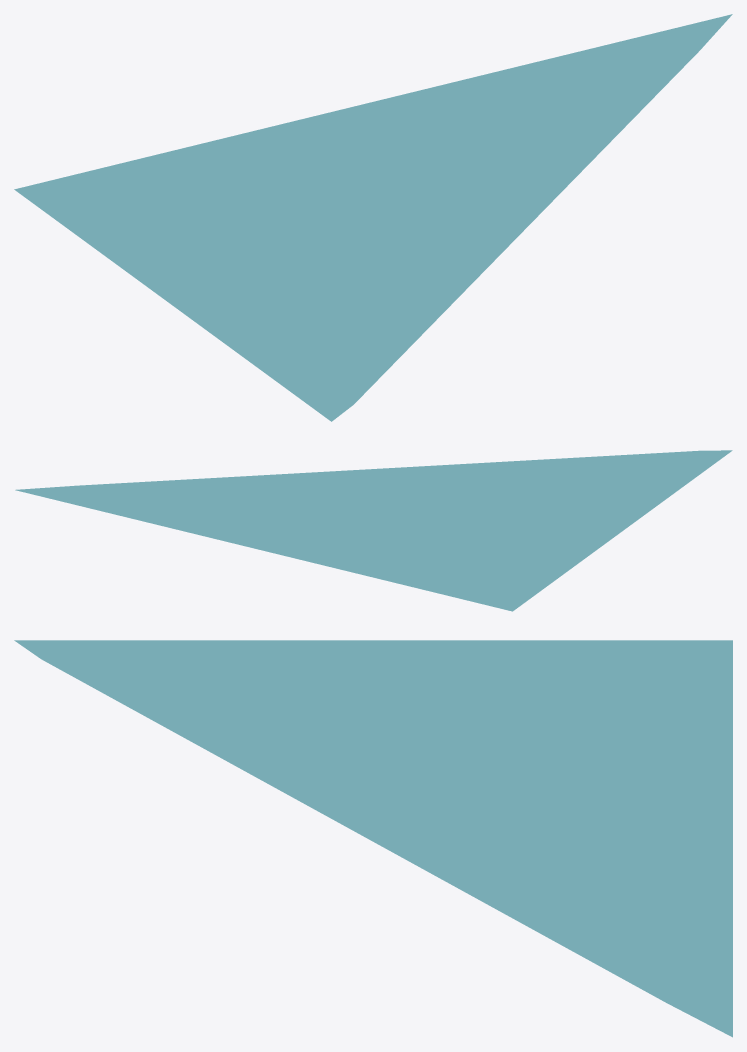
The picture shows the model from 3 angles, top to bottom: view 1: azimuth 30°, elevation 25°; view 2: azimuth 150°, elevation 25°; view 3: azimuth 270°, elevation 25°; orthographic projection. The views are drawn at different scales.
Parts seen in each view (by area): view 1: city; view 2: city; view 3: city.
Boxes of the visible parts, x1,y1,x2,y2 form: city: [14, 14, 732, 421]; city: [15, 450, 732, 611]; city: [14, 640, 732, 1037].
Bounding box in the file's own units: 54.2 × 0 × 41.46.
